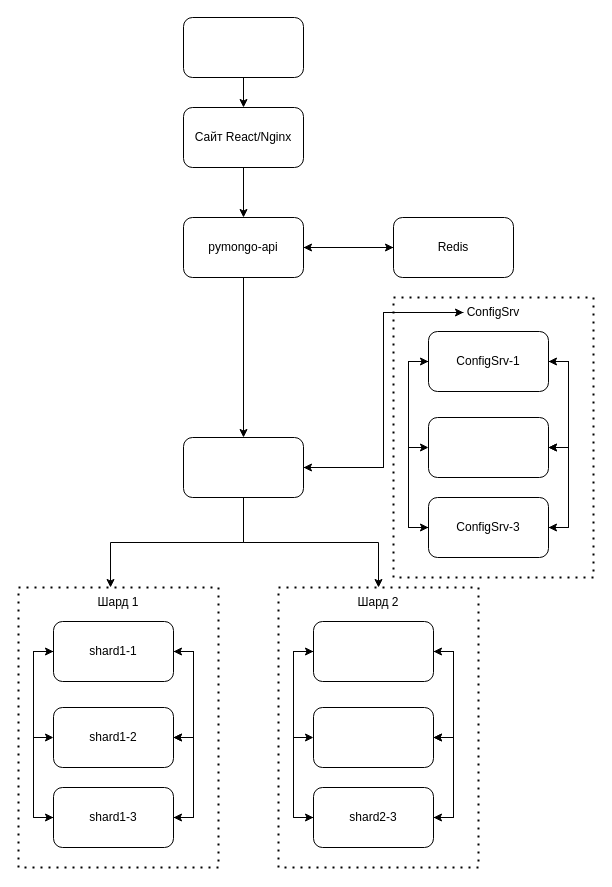
Image size: 612x887. Some labels were removed from this diagram. Each missing label, with the centre of its shape:
"ConfigSrv-2" belongs at pixel 488 447.
"Mongos (маршрутизаор)" belongs at pixel 243 467.
"shard2-1" belongs at pixel 373 651.
"shard2-2" belongs at pixel 373 737.
"Пользователи" belongs at pixel 243 47.
